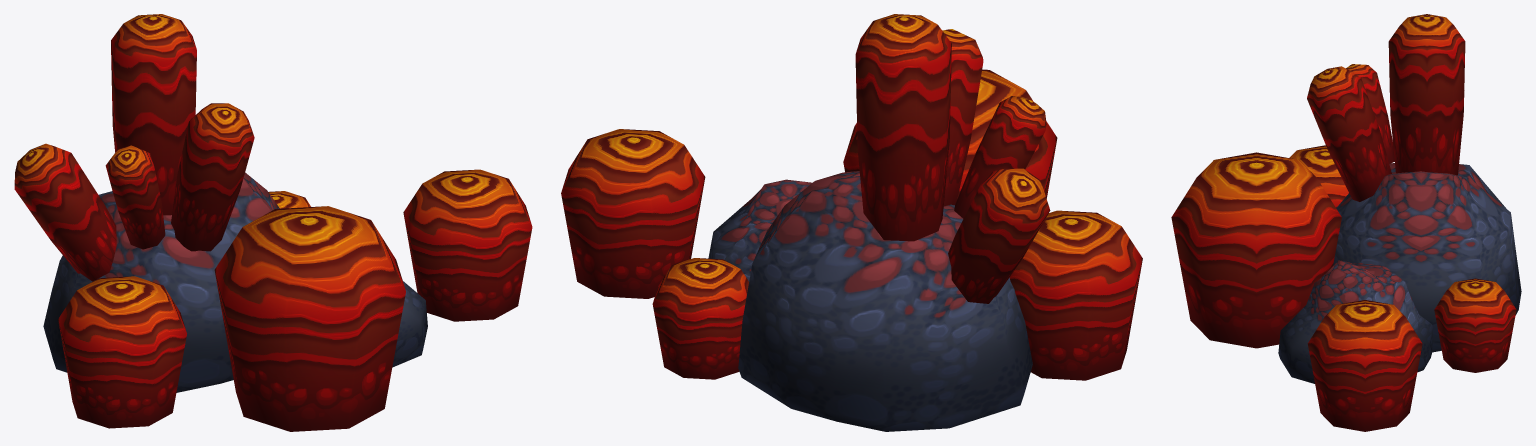
File: CoralSet_07.FBX
3 renders of one model, left to right at view 1: azimuth 30°, elevation 25°; view 2: azimuth 150°, elevation 25°; view 3: azimuth 270°, elevation 25°, orthographic. The views are drawn at different scales.
Parts seen in each view (by area): view 1: Sphere093, Sphere098, Sphere106, Plane475, Sphere102, Sphere103, Sphere104, Sphere105, Plane478, Sphere107; view 2: Plane475, Sphere102, Sphere106, Sphere098, Sphere107, Sphere104, Sphere105, Sphere103, Plane478, Sphere093; view 3: Sphere093, Plane475, Sphere106, Sphere102, Sphere103, Plane478, Sphere107, Sphere098, Sphere105.
Part boxes in pixels (x1,y1,x2,y2): Sphere093: (214, 206, 405, 431); Sphere098: (58, 276, 186, 428); Sphere106: (403, 169, 532, 321); Plane475: (43, 172, 279, 392); Sphere102: (111, 14, 196, 215); Sphere103: (171, 103, 254, 251); Sphere104: (14, 143, 116, 281); Sphere105: (105, 145, 165, 249); Plane478: (392, 281, 427, 367); Sphere107: (268, 191, 310, 208); Plane475: (738, 171, 1032, 431); Sphere102: (855, 14, 951, 241); Sphere106: (561, 129, 705, 298); Sphere098: (1009, 210, 1142, 380); Sphere107: (652, 258, 748, 379); Sphere104: (948, 168, 1050, 303); Sphere105: (954, 96, 1046, 218); Sphere103: (942, 29, 983, 206); Plane478: (708, 179, 812, 281); Sphere093: (843, 69, 1057, 198); Sphere093: (1171, 152, 1341, 348); Plane475: (1333, 163, 1521, 352); Sphere106: (1307, 300, 1422, 431); Sphere102: (1388, 14, 1465, 175); Sphere103: (1307, 66, 1391, 201); Plane478: (1278, 260, 1432, 383); Sphere107: (1434, 278, 1516, 372); Sphere098: (1289, 145, 1348, 207); Sphere105: (1346, 64, 1394, 163).
Size of the model in its own units: 200 by 129 by 146.
